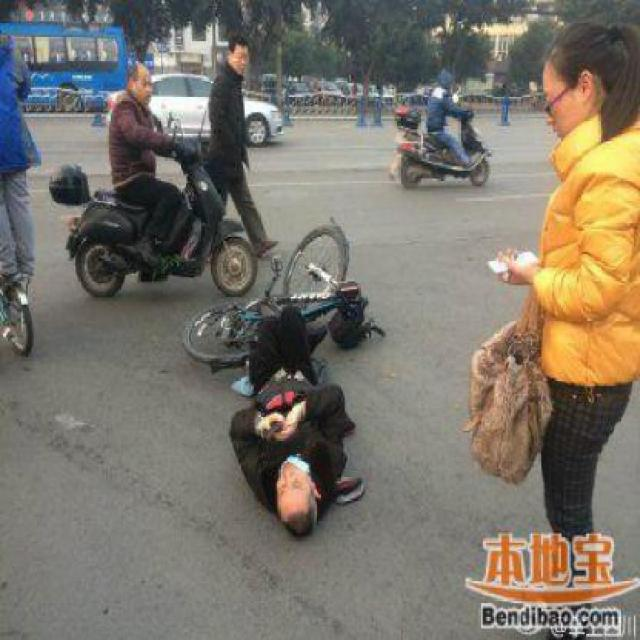fall: (214, 281, 369, 553)
